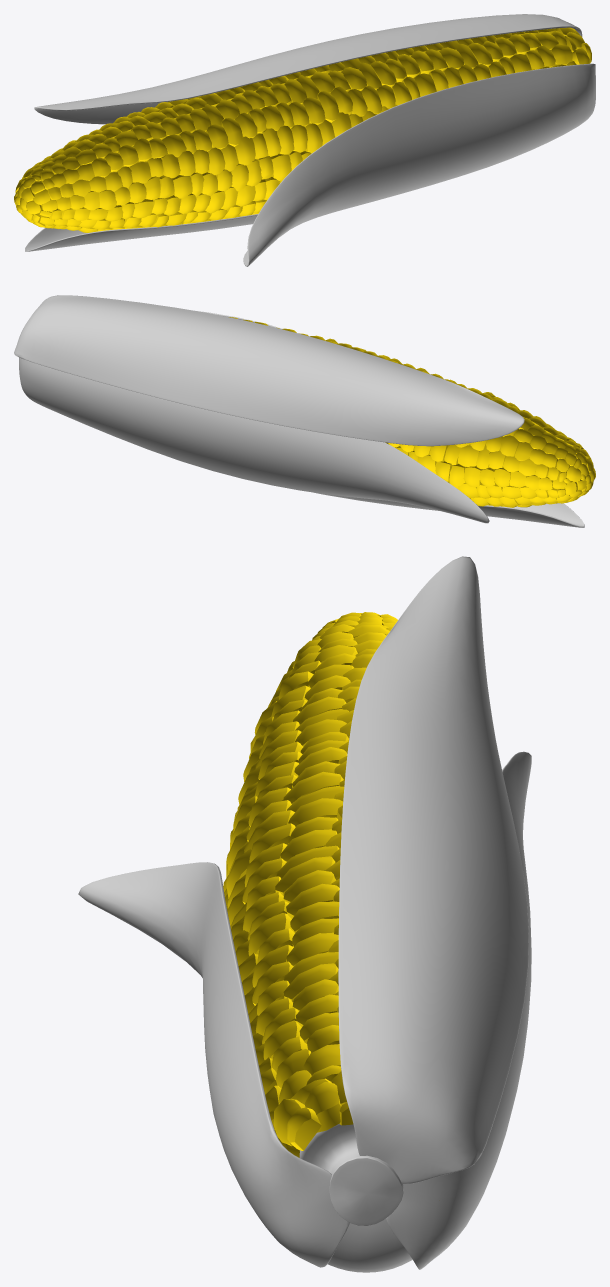
The model's file is 11548_Ear_Of_Corn_Yellow_V2_l3.obj.
The picture shows the model from 3 angles, top to bottom: view 1: azimuth 30°, elevation 25°; view 2: azimuth 150°, elevation 25°; view 3: azimuth 270°, elevation 25°; orthographic projection. The views are drawn at different scales.
Parts seen in each view (by area): view 1: Ear_Of_Corn_Ear_C1, Ear_Of_Corn_Leaf_C1; view 2: Ear_Of_Corn_Leaf_C1, Ear_Of_Corn_Ear_C1; view 3: Ear_Of_Corn_Leaf_C1, Ear_Of_Corn_Ear_C1, Ear_Of_Corn_Part_C1.
Boxes of the visible parts, box(x1,y1,x2,y2) form: Ear_Of_Corn_Ear_C1: box(14, 27, 591, 232); Ear_Of_Corn_Leaf_C1: box(25, 14, 595, 266); Ear_Of_Corn_Leaf_C1: box(14, 295, 584, 527); Ear_Of_Corn_Ear_C1: box(229, 317, 595, 507); Ear_Of_Corn_Leaf_C1: box(78, 556, 531, 1272); Ear_Of_Corn_Ear_C1: box(223, 612, 397, 1157); Ear_Of_Corn_Part_C1: box(299, 1124, 403, 1225).
Size of the model in its own units: 18.33 by 4.59 by 6.43.
